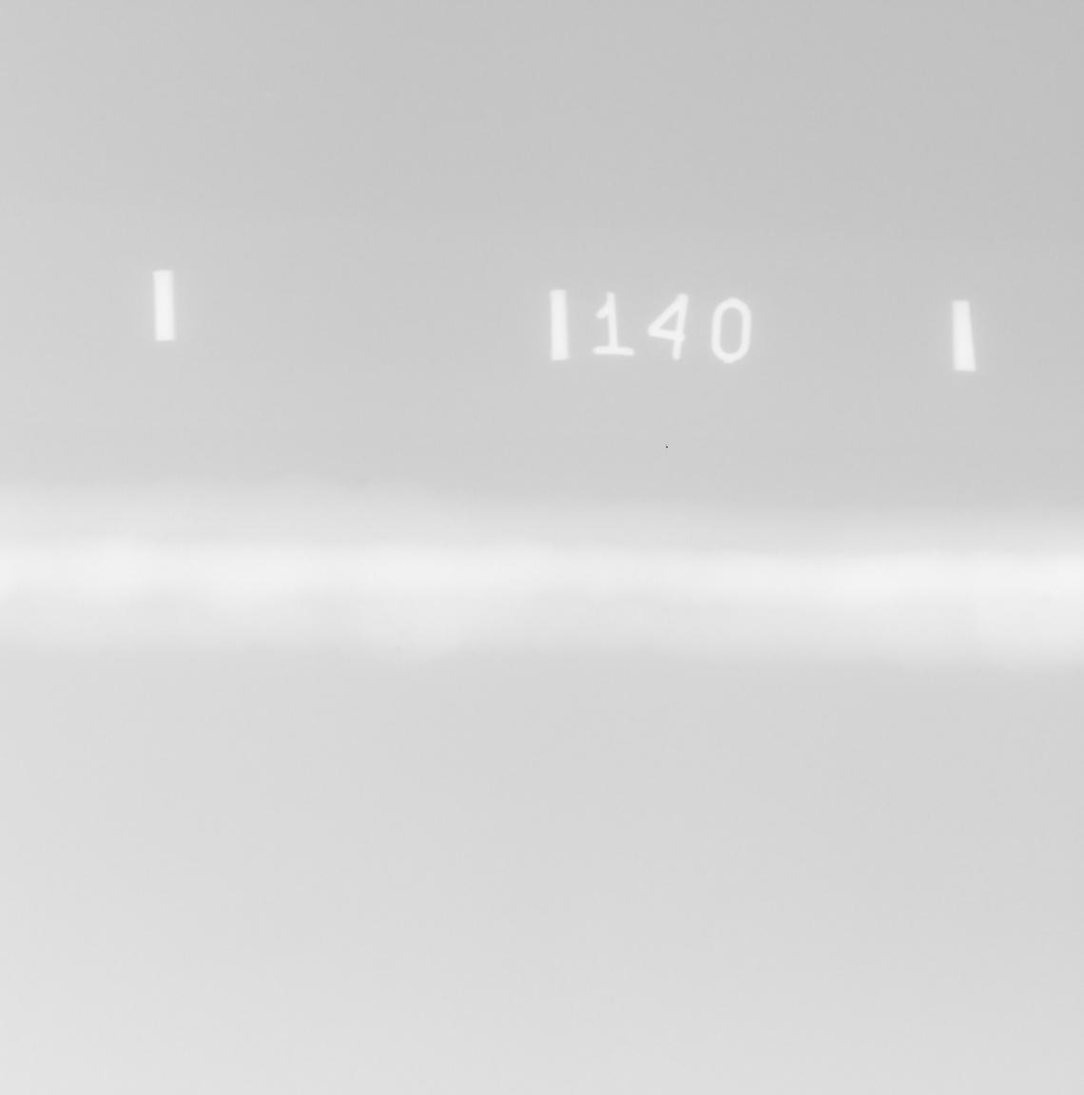Pore/Porosity: (408, 643, 417, 653), (399, 631, 409, 638), (1040, 598, 1050, 604), (385, 617, 391, 626), (395, 644, 400, 652)
